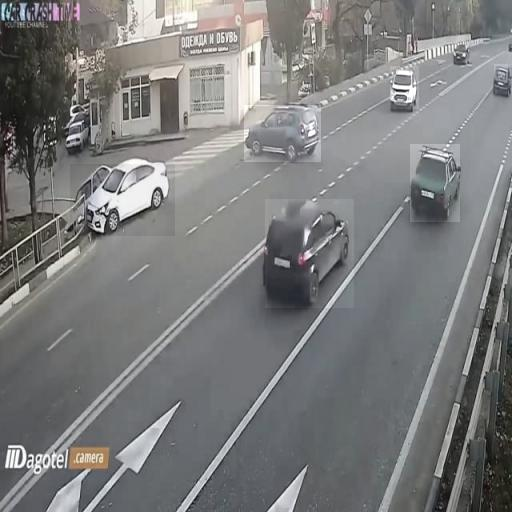小汽车: (265, 199, 354, 308), (244, 105, 321, 162), (410, 144, 460, 222), (390, 66, 419, 109), (494, 64, 508, 94)
小汽车撞小汽车: (70, 164, 175, 236)
